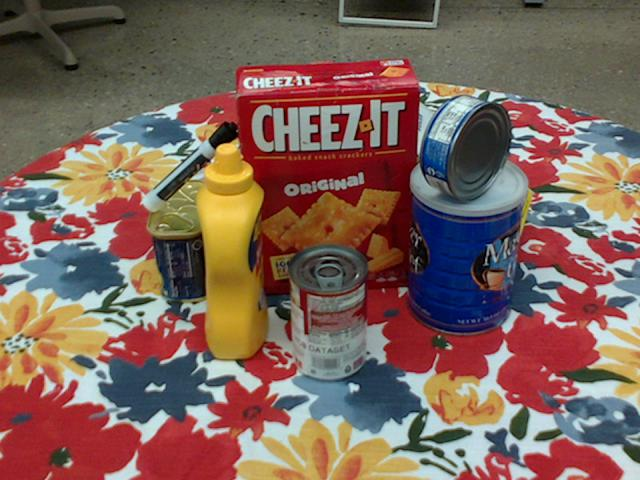cracker_box: (236, 59, 422, 294)
gelatin_box: (172, 157, 257, 244)
large_marker: (142, 120, 239, 211)
master_chef_can: (409, 152, 526, 338)
mug: (323, 123, 408, 221)
mustard_bottle: (196, 143, 267, 360)
potted_meat_can: (146, 180, 215, 303)
sugar_box: (368, 96, 535, 258)
tomato_soup_can: (287, 244, 367, 382)
tuna_fish_can: (422, 94, 512, 200)
